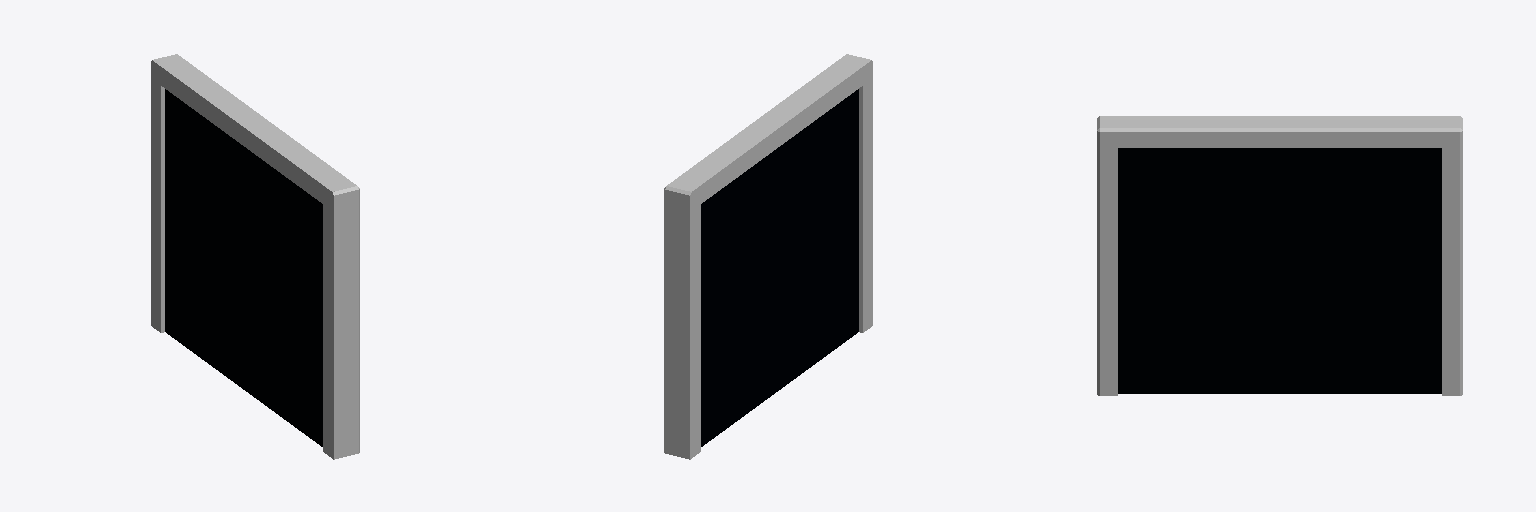
The model's file is door.obj.
3 views of the same model, side by side, from view 1: azimuth 30°, elevation 25°; view 2: azimuth 150°, elevation 25°; view 3: azimuth 270°, elevation 25° (orthographic).
Parts seen in each view (by area): view 1: Part2, Union3, Union2, Union1; view 2: Part2, Union1, Union2, Union3; view 3: Part2, Union2, Union1, Union3.
Part boxes in pixels (x1,y1,x2,y2): Part2: (165,89,322,446); Union3: (323,189,359,459); Union2: (152,54,356,209); Union1: (151,64,164,332); Part2: (701,89,858,446); Union1: (664,189,700,459); Union2: (667,54,871,209); Union3: (859,62,872,332); Part2: (1118,148,1441,393); Union2: (1100,116,1459,147); Union1: (1442,131,1462,395); Union3: (1097,131,1117,395).
Bounding box in the file's own units: 1.05 × 9.71 × 12.1.